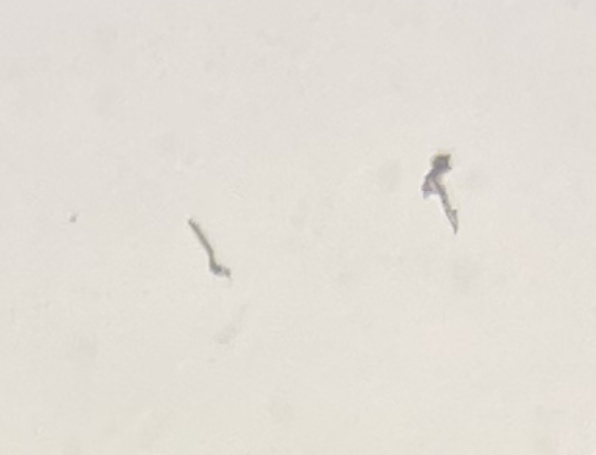microplastic: (421, 152, 460, 235), (186, 216, 234, 283)
